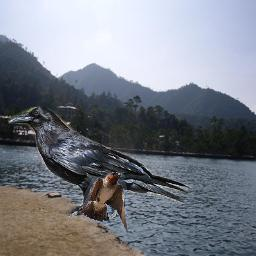Crow: (8, 106, 198, 222)
Swallow: (79, 172, 128, 233)
